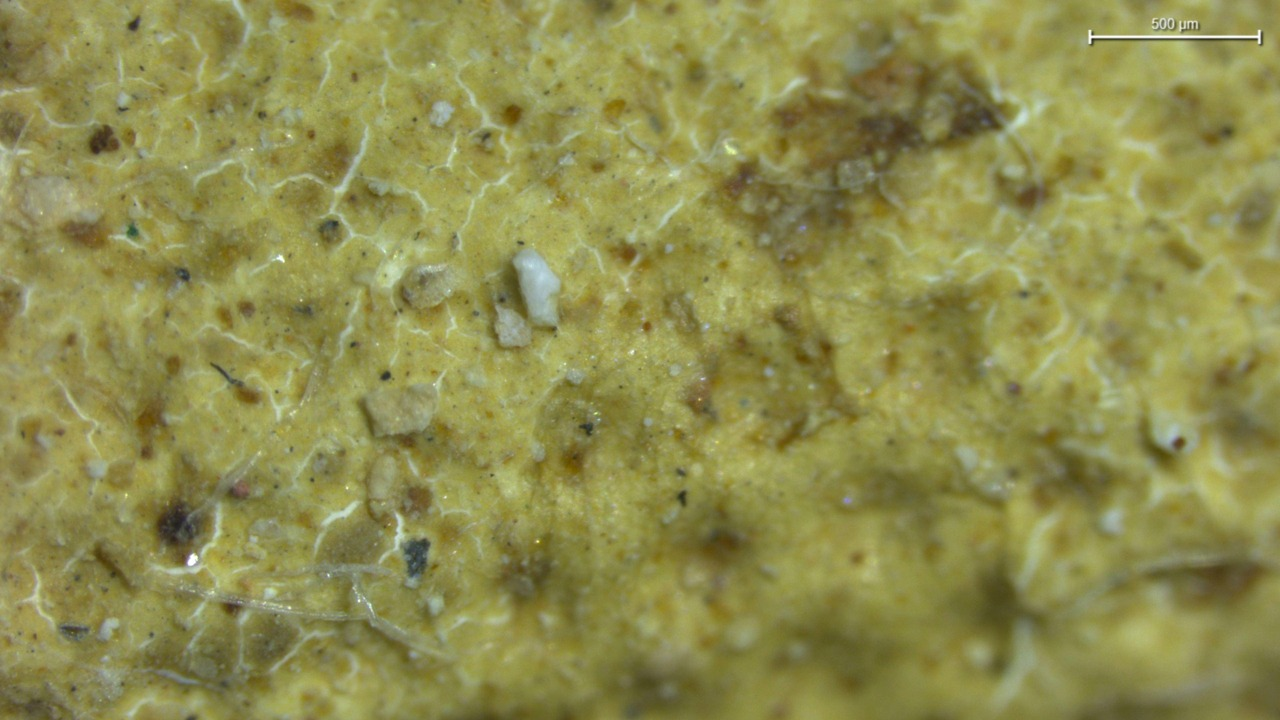microplastic_fragment: (512, 248, 560, 326), (365, 383, 437, 435), (494, 306, 531, 347)
